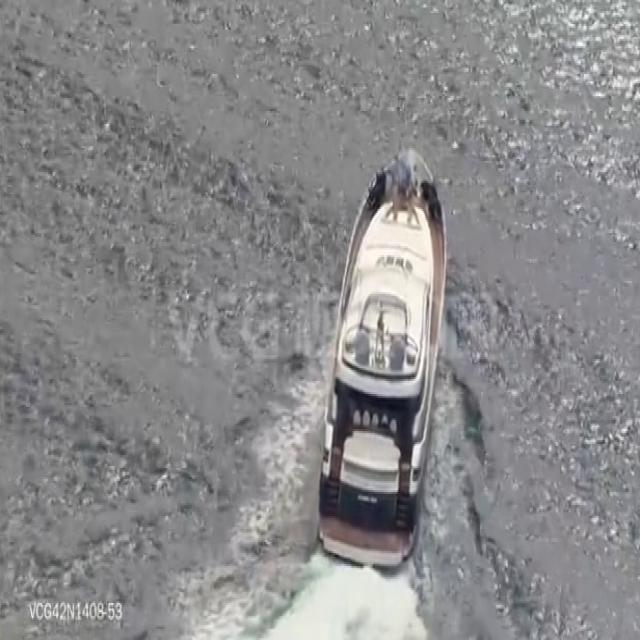houseboat: (315, 144, 449, 584)
